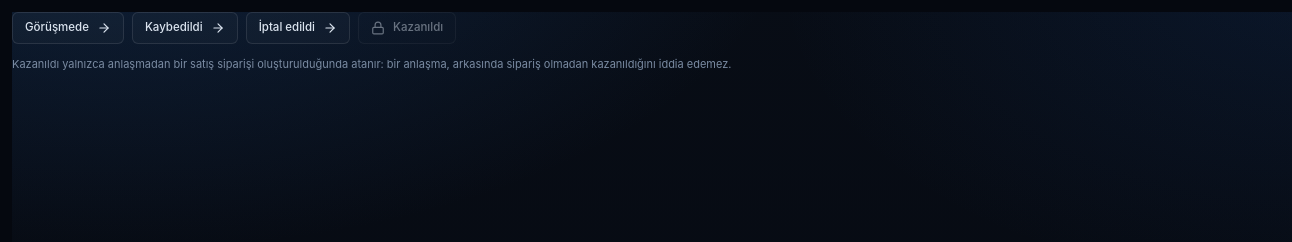
it: status transitions in Turkish › confirms a move in Turkish and sends the API its own vocabulary
Click the button "Görüşmede". click: [68, 28]
box: [12,12,124,44]
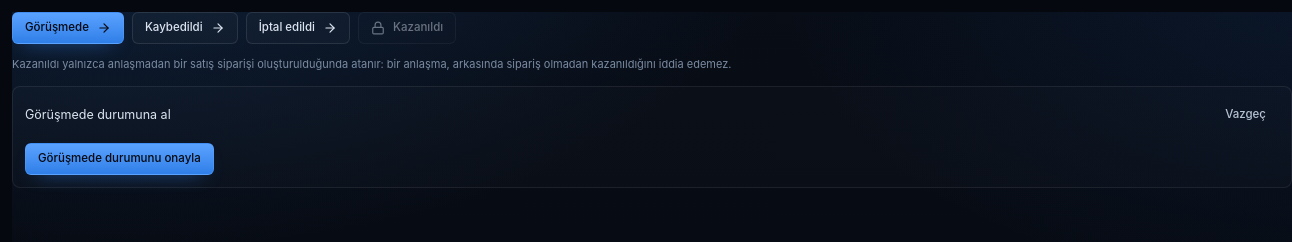
Click the button "Görüşmede durumunu onayla". click: [119, 159]
box: [25,143,214,175]
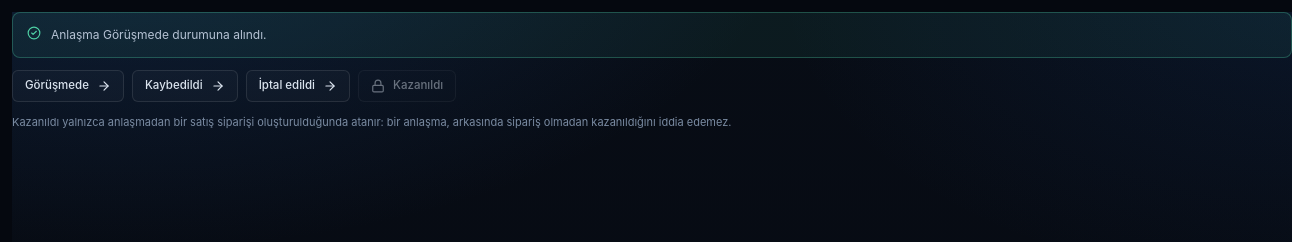
Check: the text "Anlaşma Görüşmede durumuna alındı." is shown, box [51,25,266,44]
